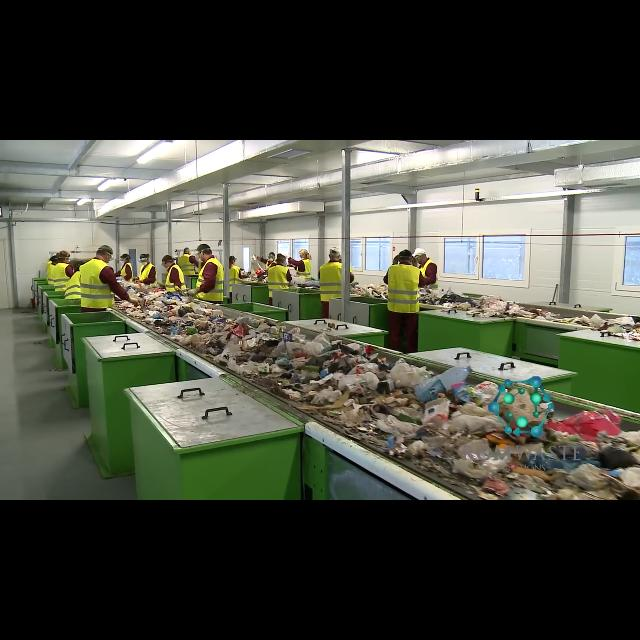trash: (414, 364, 474, 404)
